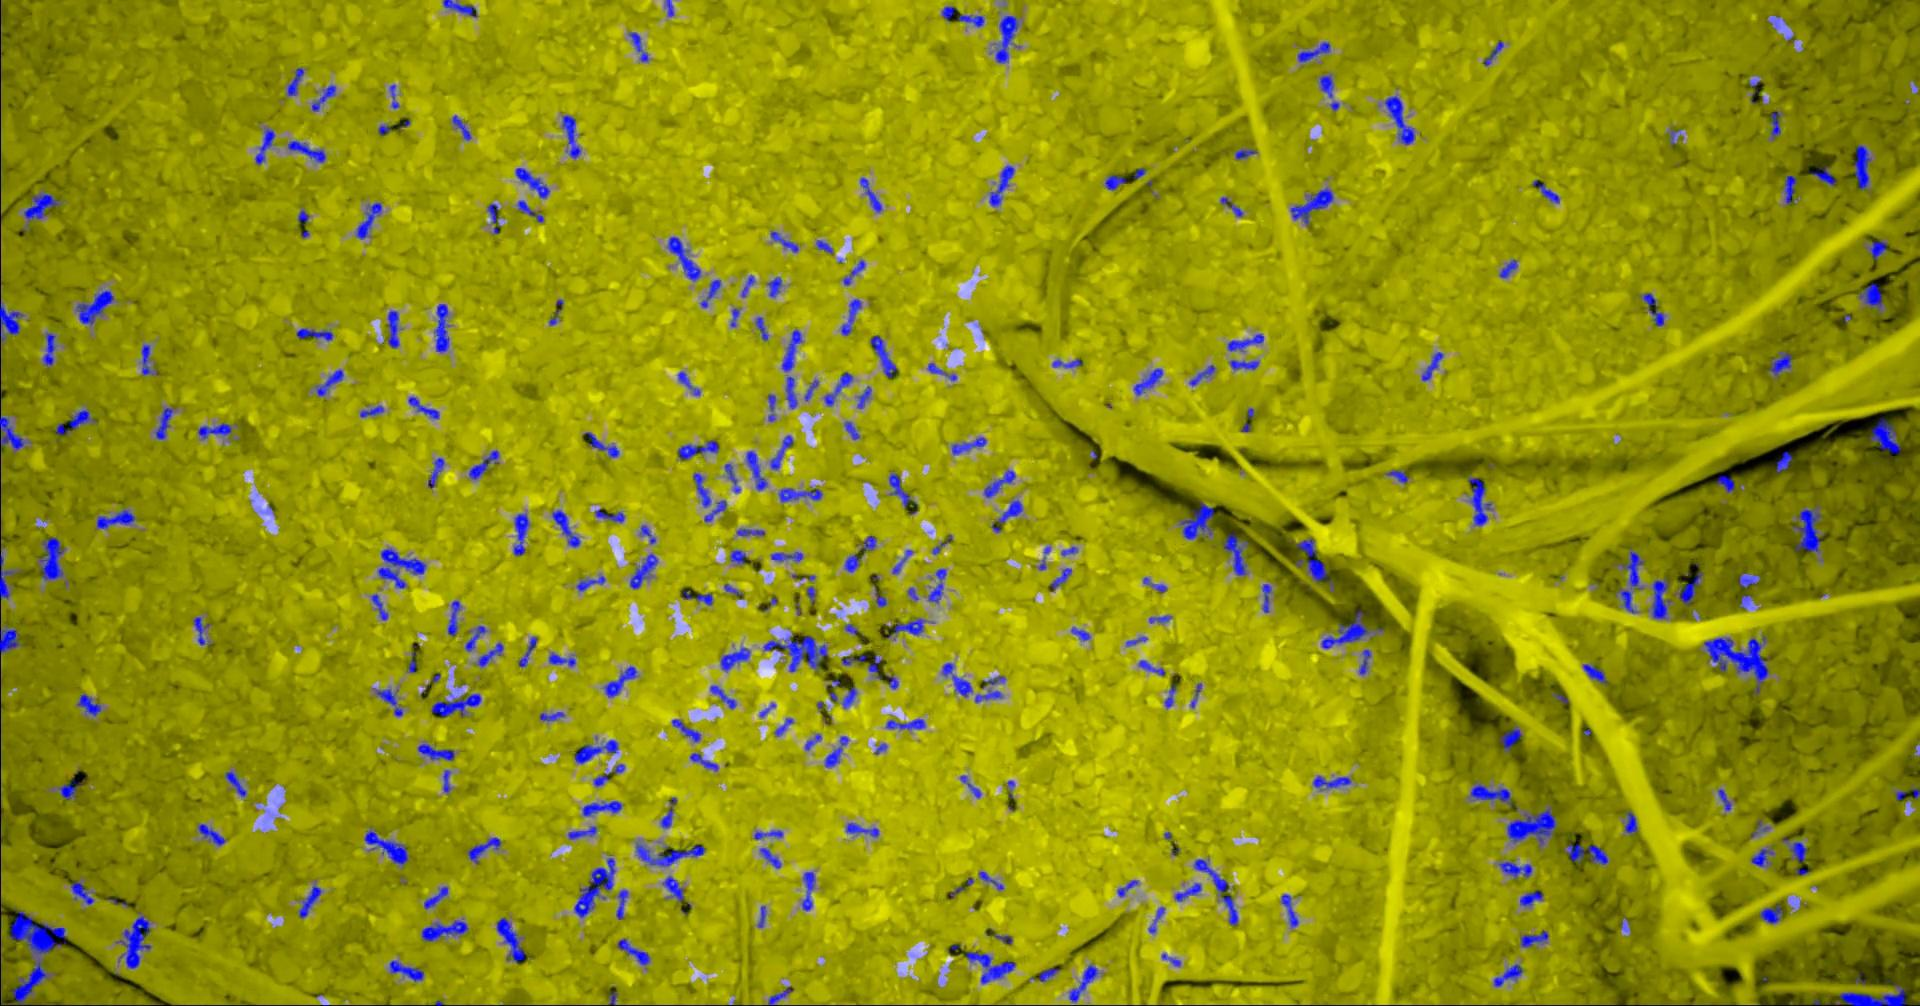ant: (1192, 857, 1237, 925), (573, 857, 615, 917), (763, 635, 827, 671), (1295, 539, 1333, 591), (377, 547, 425, 588), (116, 912, 150, 968), (1321, 608, 1369, 648), (1506, 807, 1556, 845), (1617, 547, 1643, 614), (11, 959, 48, 1005), (1837, 981, 1906, 1005), (1290, 187, 1333, 224), (965, 951, 1015, 983), (635, 843, 703, 866), (364, 829, 408, 864), (1384, 95, 1415, 144), (1792, 506, 1823, 551), (667, 236, 700, 279), (75, 290, 113, 324), (1178, 500, 1213, 539), (497, 917, 524, 962), (1869, 417, 1900, 455), (430, 694, 481, 716), (1468, 475, 1491, 525), (1068, 964, 1098, 1001), (870, 335, 897, 377), (38, 537, 65, 579), (1222, 532, 1247, 575), (996, 15, 1018, 62), (1470, 782, 1515, 807), (55, 409, 97, 434), (551, 509, 579, 547), (516, 166, 549, 198), (603, 666, 636, 697), (941, 662, 971, 696), (574, 739, 617, 763), (989, 165, 1015, 206), (422, 920, 469, 941), (990, 500, 1022, 532), (823, 372, 852, 406), (23, 192, 58, 220), (629, 553, 657, 588), (0, 417, 25, 453), (0, 535, 14, 600), (356, 202, 381, 238), (745, 450, 767, 490), (287, 140, 325, 163), (584, 432, 618, 457), (1677, 572, 1703, 606), (467, 837, 502, 862), (469, 450, 498, 479), (781, 329, 801, 371), (1566, 843, 1608, 864), (0, 301, 22, 340), (983, 470, 1015, 497), (617, 937, 649, 964), (1853, 144, 1870, 189), (858, 177, 881, 212), (561, 116, 580, 158), (1651, 577, 1670, 619), (770, 434, 792, 469), (888, 473, 910, 507), (375, 688, 403, 716), (1133, 368, 1162, 395), (433, 304, 450, 351), (677, 439, 717, 459), (824, 735, 848, 767), (885, 619, 924, 638), (841, 298, 861, 335), (315, 370, 343, 396), (1642, 292, 1663, 326), (97, 509, 135, 528), (298, 885, 321, 917), (254, 128, 274, 164), (720, 647, 749, 671), (389, 960, 423, 981), (513, 513, 530, 555), (408, 396, 439, 418), (1297, 41, 1330, 61), (1859, 282, 1882, 311), (1493, 963, 1523, 986), (1227, 333, 1263, 351), (692, 473, 711, 507), (311, 84, 335, 111), (1531, 179, 1559, 202), (516, 199, 543, 222), (709, 685, 737, 708), (1421, 351, 1443, 380), (670, 719, 700, 741), (417, 743, 455, 760), (477, 641, 503, 666), (463, 625, 486, 652), (770, 230, 797, 251), (778, 486, 822, 500), (197, 823, 225, 845), (582, 800, 621, 815), (517, 636, 537, 666), (442, 0, 477, 17), (154, 406, 171, 439), (1498, 861, 1531, 879), (223, 771, 246, 796), (700, 279, 720, 307), (197, 422, 231, 438), (951, 437, 985, 453), (928, 568, 945, 602), (629, 32, 648, 61), (1768, 351, 1790, 375), (1498, 727, 1521, 751), (70, 880, 93, 904), (662, 875, 683, 901), (1189, 365, 1215, 385), (0, 625, 19, 653), (801, 871, 815, 909), (1281, 894, 1298, 926), (677, 371, 698, 395), (76, 694, 100, 715), (58, 775, 80, 799), (423, 887, 447, 908), (927, 362, 956, 380), (1483, 39, 1503, 65), (843, 259, 863, 285), (1582, 663, 1608, 683), (1175, 882, 1201, 901), (844, 822, 877, 837), (286, 67, 303, 95), (447, 600, 461, 635), (690, 752, 717, 770), (1520, 930, 1548, 948), (1049, 567, 1070, 589), (891, 549, 912, 573), (681, 589, 712, 605), (1312, 775, 1350, 788), (660, 796, 676, 828), (767, 986, 792, 1005), (141, 344, 157, 373), (427, 457, 443, 486), (370, 593, 387, 620), (959, 775, 980, 796), (703, 500, 726, 521), (724, 464, 740, 492), (193, 616, 210, 644), (1148, 906, 1164, 934), (451, 116, 470, 140), (1811, 166, 1835, 185), (296, 328, 331, 340), (978, 871, 1003, 889), (885, 718, 924, 729), (1220, 196, 1242, 216), (1751, 846, 1773, 866), (1759, 904, 1782, 923), (577, 575, 604, 591), (387, 310, 399, 347), (932, 533, 952, 554), (759, 847, 780, 868), (594, 508, 623, 522), (568, 826, 597, 840), (785, 376, 797, 408), (1142, 575, 1166, 592), (615, 889, 627, 920), (1789, 841, 1807, 862), (43, 332, 55, 365), (1775, 450, 1792, 473), (549, 298, 563, 325), (549, 652, 575, 666), (1138, 661, 1164, 674), (974, 688, 1001, 702), (488, 203, 500, 232), (858, 535, 876, 555), (1103, 174, 1125, 191), (867, 654, 881, 680), (841, 685, 856, 708), (1519, 890, 1542, 906), (1498, 259, 1517, 277), (1716, 474, 1735, 492), (775, 716, 792, 735), (770, 551, 803, 561), (1116, 879, 1137, 895), (1784, 175, 1796, 205), (1738, 572, 1760, 587), (1357, 649, 1370, 674), (1769, 111, 1780, 138), (982, 674, 1004, 688), (1869, 240, 1887, 258), (1750, 821, 1769, 837), (756, 316, 768, 340), (1624, 810, 1637, 835), (804, 379, 818, 400), (857, 386, 871, 408), (1385, 469, 1407, 483), (827, 680, 841, 701), (1037, 967, 1059, 981), (1229, 359, 1258, 370), (1261, 583, 1271, 612), (753, 829, 782, 840), (639, 525, 655, 542), (844, 554, 861, 572), (804, 733, 822, 749), (957, 14, 983, 25), (1717, 788, 1730, 810), (767, 276, 781, 296), (359, 405, 383, 417), (1319, 75, 1332, 97), (844, 420, 858, 439), (1070, 626, 1090, 640), (1051, 358, 1081, 367), (742, 276, 754, 296), (841, 654, 866, 664), (538, 711, 564, 721), (941, 6, 957, 22), (408, 644, 417, 672), (1164, 685, 1175, 708), (815, 239, 832, 253), (593, 772, 610, 786), (1234, 149, 1256, 159), (389, 84, 397, 108), (767, 392, 775, 420), (737, 528, 764, 536), (730, 549, 745, 563), (875, 589, 886, 606), (442, 768, 450, 793), (1148, 615, 1171, 622), (757, 904, 764, 927)
